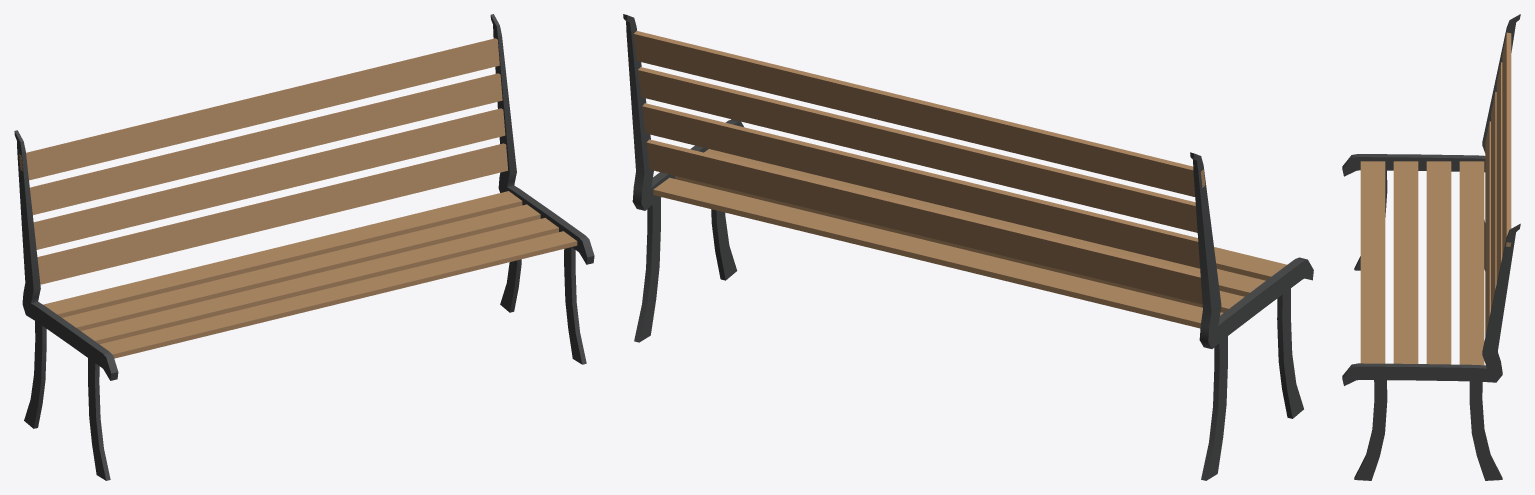
Rendered from SM_bench_01.fbx.
The picture shows the model from 3 angles, left to right: view 1: azimuth 30°, elevation 25°; view 2: azimuth 150°, elevation 25°; view 3: azimuth 270°, elevation 25°; orthographic projection. The views are drawn at different scales.
Visible parts, largest first — view 1: Line007; view 2: Line007; view 3: Line007.
Boxes of the visible parts, x1,y1,x2,y2 form: Line007: (14, 14, 594, 480); Line007: (623, 14, 1313, 480); Line007: (1342, 14, 1520, 480).
Bounding box in the file's own units: 77.73 × 27.53 × 43.58.
